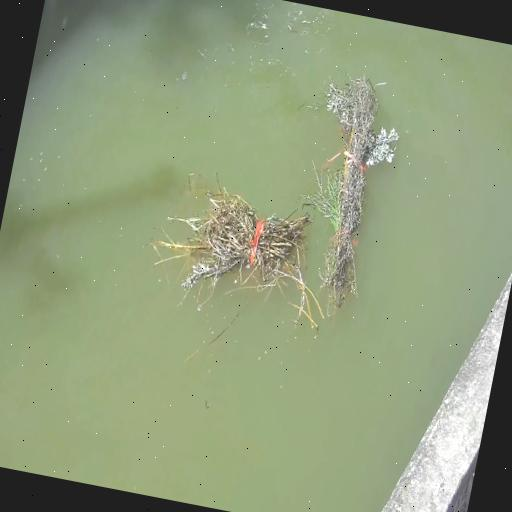twig: (292, 72, 412, 318), (172, 181, 326, 334)
